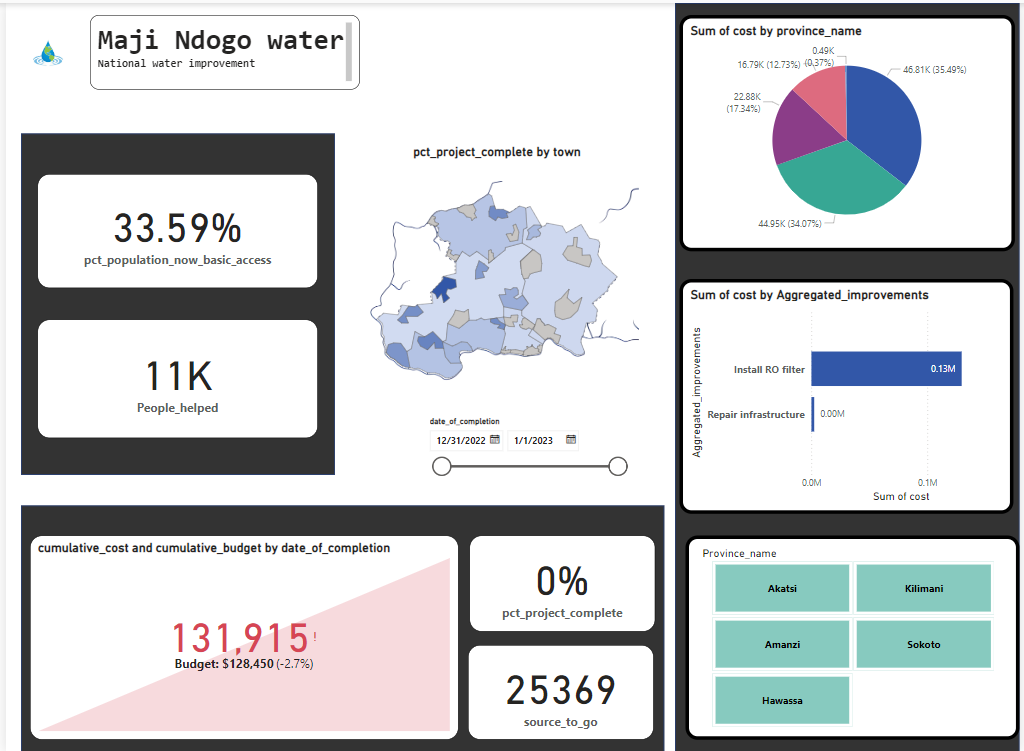

The dashboard page shown, as its layout file describes it:
{"tool":"powerbi","page":{"name":"National","canvas":[1350,1000],"ordinal":0},"visuals":[{"type":"image","box":[478,231,370,296],"z":0},{"type":"shape","box":[20.3,174.6,418.1,454.7],"z":1000},{"type":"shape","box":[20.3,669.8,856.6,330.9],"z":2000},{"type":"shape","box":[891.1,0,458.7,1000.7],"z":3000},{"type":"shapeMap","fields":{"Category":["project_progress.town"],"Value":["project_progress.pct_project_complete"]},"box":[471,188,365,358],"z":4000},{"type":"card","fields":{"Values":["project_progress.pct_project_complete"]},"box":[617.1,708.4,247.6,127.9],"z":5000},{"type":"card","fields":{"Values":["project_progress.source_to_go"]},"box":[615,854.6,247.6,125.8],"z":6000},{"type":"card","fields":{"Values":["water_source.population_now_basic_access"]},"box":[42.6,422.2,373.5,158.3],"z":7000},{"type":"card","fields":{"Values":["water_source.pct_population_now_basic_access"]},"box":[42.6,227.3,373.5,152.2],"z":8000},{"type":"slicer","fields":{"Values":["project_progress.date_of_completion"]},"box":[552.1,546,284.2,99.5],"z":9000},{"type":"kpi","fields":{"Indicator":["project_progress.cumulative_cost"],"TrendLine":["project_progress.date_of_completion"],"Goal":["project_progress.cumulative_budget"]},"box":[32.5,708.4,570.4,272],"z":10000},{"type":"pieChart","fields":{"Y":["Sum(project_progress.cost)"],"Category":["location.province_name"]},"box":[897.2,16.2,446.6,314.6],"z":11000},{"type":"clusteredBarChart","fields":{"Category":["project_progress.Aggregated_improvements"],"Y":["Sum(project_progress.cost)"]},"box":[897.2,367.4,444.5,312.6],"z":12000},{"type":"slicer","fields":{"Values":["location.province_name"]},"box":[905.3,708.4,444.5,272],"z":13000},{"type":"textbox","box":[111.6,16.2,359.3,99.5],"z":14000},{"type":"image","box":[0,16,111.9,99.9],"z":15000}]}

Visuals, with their boxes in screenshot pixels (x1, y1, x2, y2), scaled from the page's 1350x1000 canvas onto the 1024x751 screenshot:
image: 363,173,643,396
shape: 15,131,333,473
shape: 15,503,665,750
shape: 676,0,1023,750
shapeMap - project_progress.town x project_progress.pct_project_complete: 357,141,634,410
card - project_progress.pct_project_complete: 468,532,656,628
card - project_progress.source_to_go: 466,642,654,736
card - water_source.population_now_basic_access: 32,317,316,436
card - water_source.pct_population_now_basic_access: 32,171,316,285
slicer - project_progress.date_of_completion: 419,410,634,485
kpi - project_progress.cumulative_cost x project_progress.date_of_completion: 25,532,457,736
pieChart - Sum(project_progress.cost) x location.province_name: 681,12,1019,248
clusteredBarChart - project_progress.Aggregated_improvements x Sum(project_progress.cost): 681,276,1018,511
slicer - location.province_name: 687,532,1023,736
textbox: 85,12,357,87
image: 0,12,85,87
